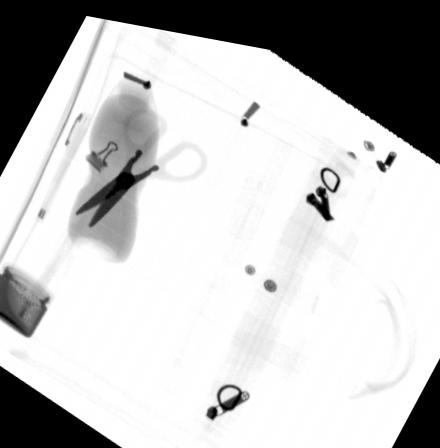Scissors: (75, 102, 205, 224)
